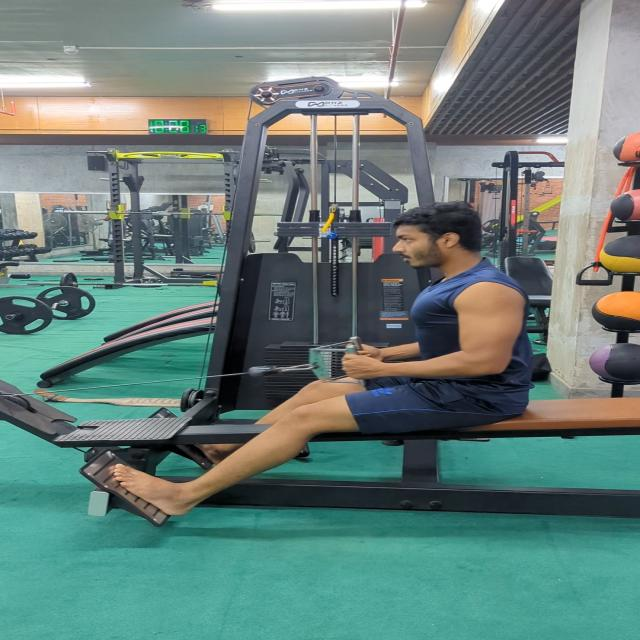Normal_RowingMachineExercise: (104, 201, 542, 518)
